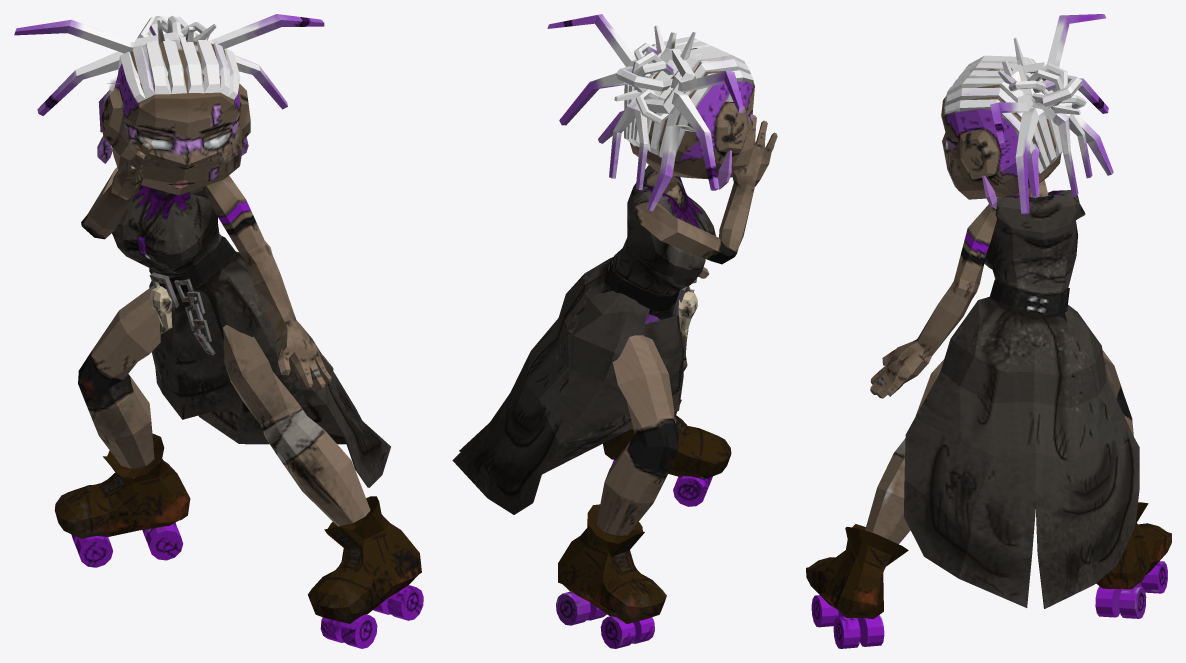
The model's file is bruja_000031.obj.
3 renders of one model, left to right at view 1: azimuth 30°, elevation 25°; view 2: azimuth 150°, elevation 25°; view 3: azimuth 270°, elevation 25°, orthographic. The views are drawn at different scales.
Parts seen in each view (by area): view 1: Bruja_Plane.001; view 2: Bruja_Plane.001; view 3: Bruja_Plane.001.
Boxes of the visible parts, x1=… form: Bruja_Plane.001: x1=14, y1=14, x2=423, y2=648; Bruja_Plane.001: x1=452, y1=14, x2=777, y2=648; Bruja_Plane.001: x1=806, y1=14, x2=1171, y2=648.
Bounding box in the file's own units: 9.23 × 15.45 × 9.24.
